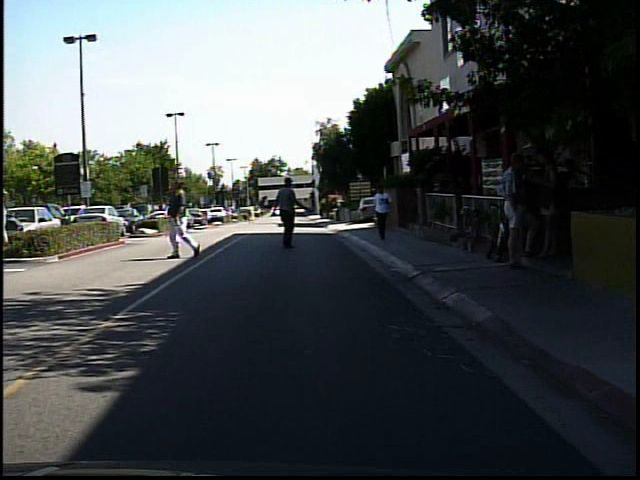person: (499, 145, 540, 272), (530, 147, 564, 264), (164, 174, 201, 261), (270, 173, 310, 252), (367, 179, 397, 244), (3, 183, 22, 270), (162, 198, 179, 230), (245, 202, 260, 226)
